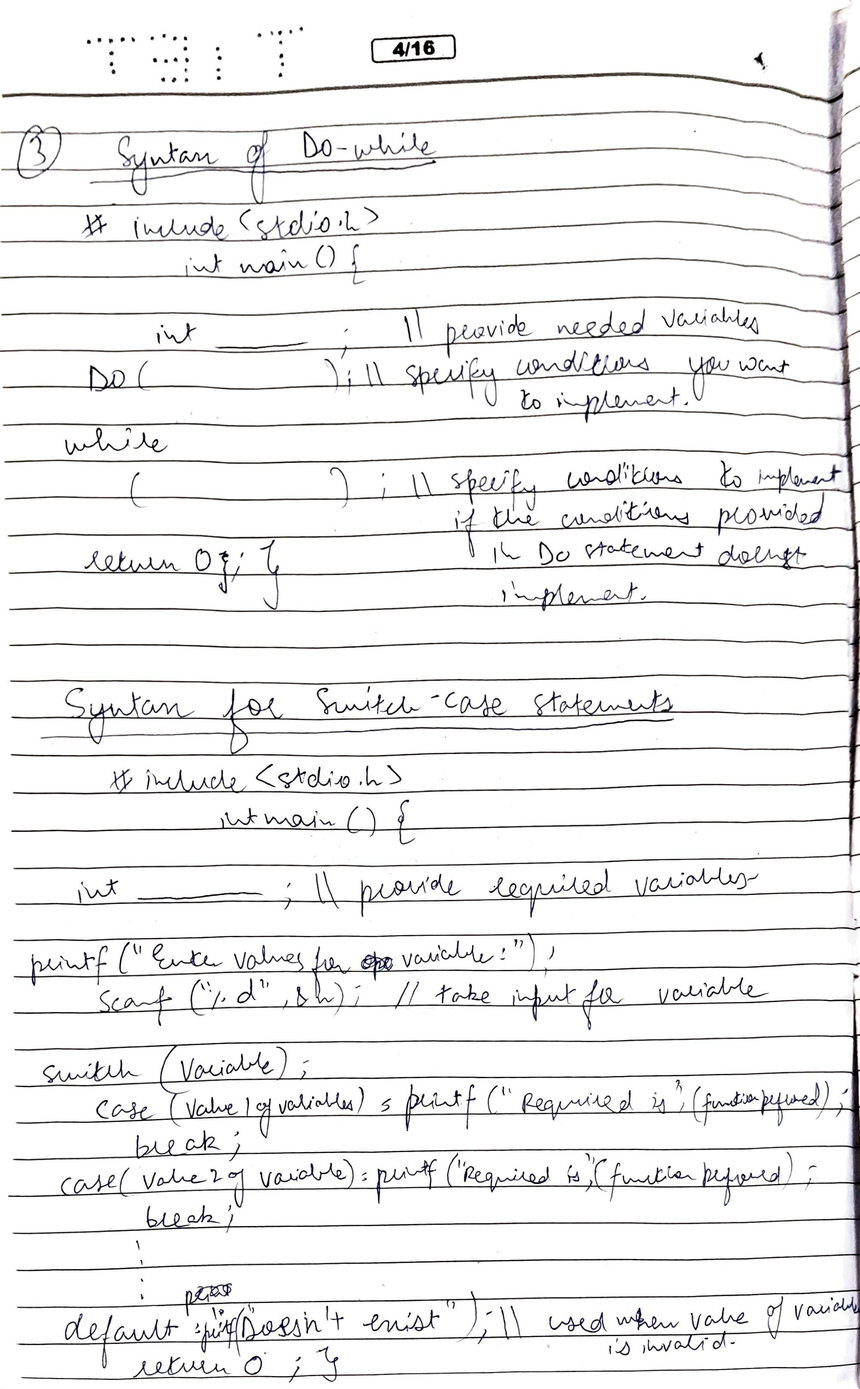cuttings: (185, 1282, 233, 1318), (360, 951, 394, 982)
